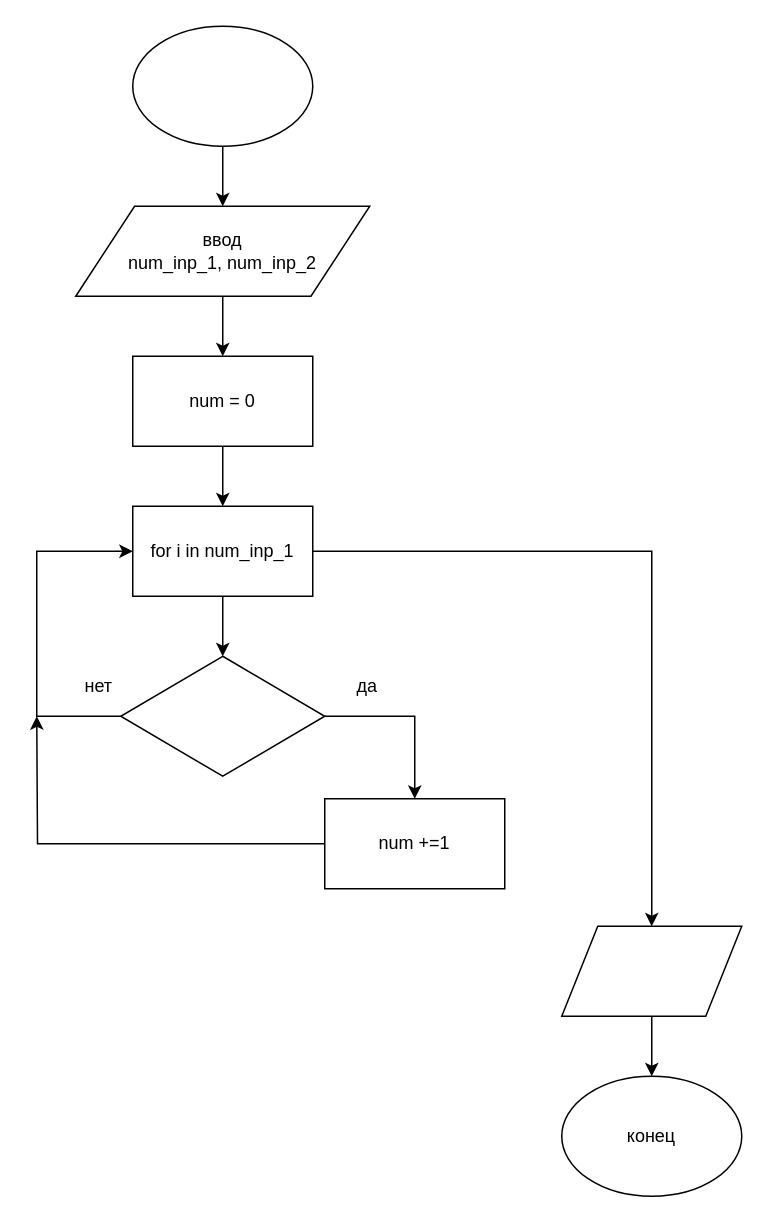
The diagram is 768 pixels wide and 1223 high, and some of its shapes have lost their labels. The box of each missing label's shape, as (x1, y1, x2, y2) in pixels:
i == num_inp_2: (119, 655, 325, 776)
вывод num: (560, 925, 742, 1016)
начало: (131, 25, 313, 146)
